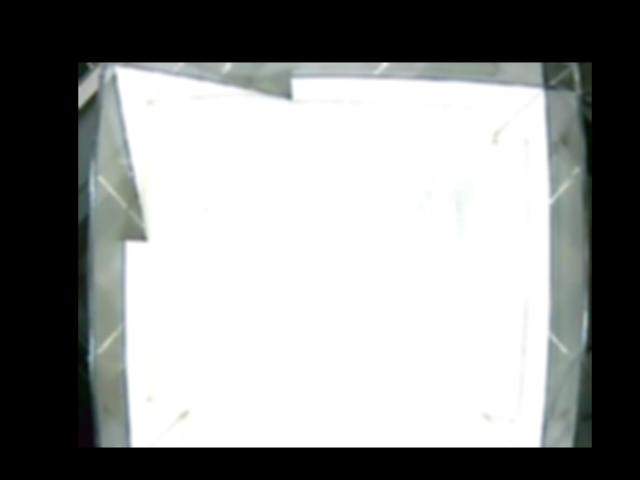Bottle: (401, 147, 489, 284)
